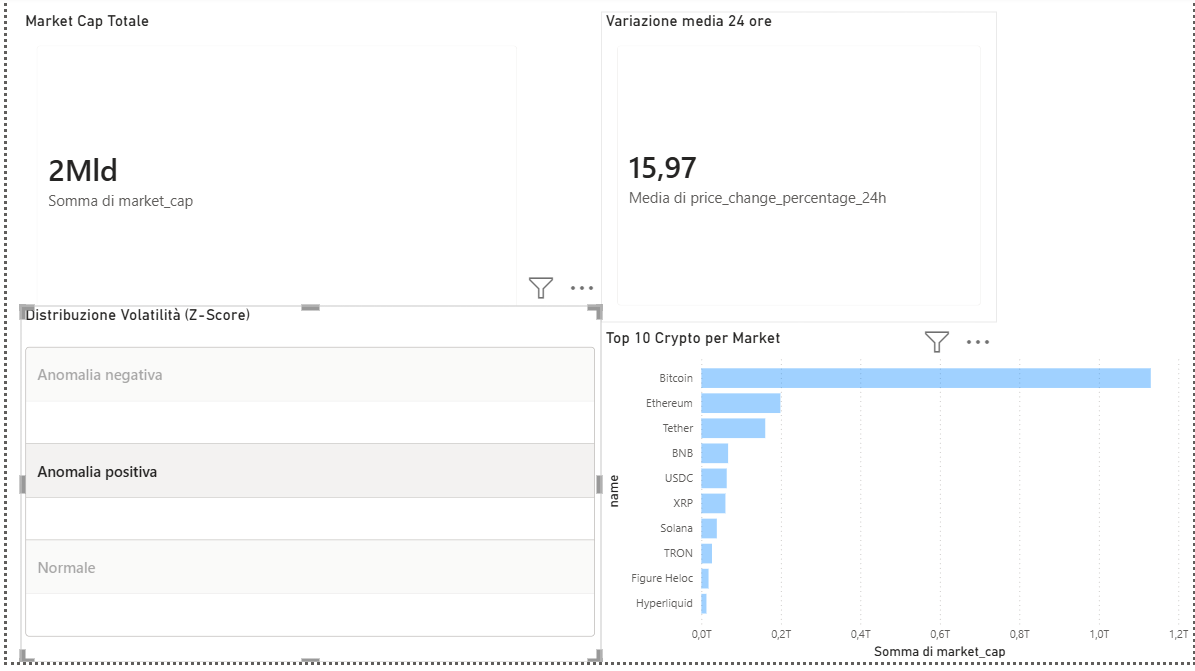

What the dashboard file says about the page in this screenshot:
{"tool":"powerbi","page":{"name":"Pagina 1","canvas":[1280,720],"ordinal":0},"visuals":[{"type":"cardVisual","fields":{"Data":["Sum(transform_crypto_data.market_cap)"]},"box":[14.8,18.5,553.7,340.7],"z":0},{"type":"clusteredBarChart","fields":{"Y":["Sum(transform_crypto_data.market_cap)"],"Category":["transform_crypto_data.name"]},"box":[640.7,359.3,638.9,361.1],"z":1000},{"type":"cardVisual","fields":{"Data":["Avg(transform_crypto_data.price_change_percentage_24h)"]},"box":[640.7,18.5,427.8,335.2],"z":2000},{"type":"cardVisual","fields":{"Rows":["transform_crypto_data.volatility_flag_statistica"]},"box":[14.8,335.2,625.9,385.2],"z":3000}]}

Visuals, with their boxes in screenshot pixels (x1, y1, x2, y2), scaled from the page's 1280x720 canvas onto the 1195x671 screenshot:
cardVisual - Sum(transform_crypto_data.market_cap): [14,17,531,335]
clusteredBarChart - Sum(transform_crypto_data.market_cap) x transform_crypto_data.name: [598,335,1194,670]
cardVisual - Avg(transform_crypto_data.price_change_percentage_24h): [598,17,998,330]
cardVisual - transform_crypto_data.volatility_flag_statistica: [14,312,598,670]
